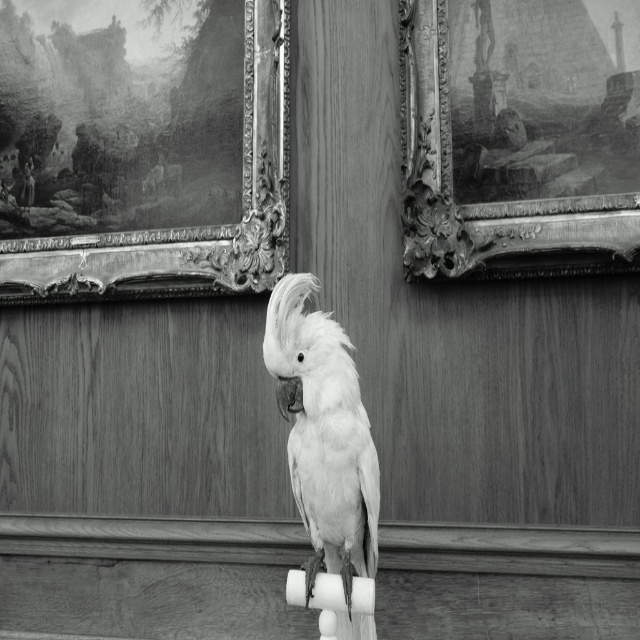Parrot: (261, 270, 383, 619)
